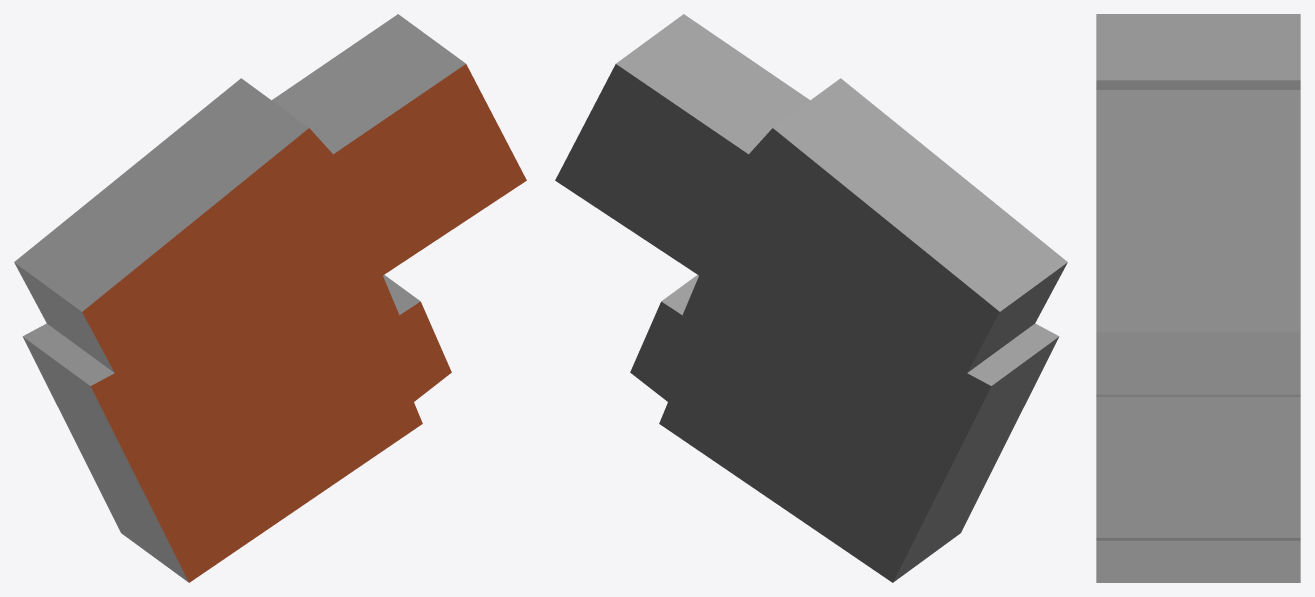
Rendered from construction_0785_assumed_A_Casa_h6m.obj.
The picture shows the model from 3 angles, left to right: view 1: azimuth 30°, elevation 25°; view 2: azimuth 150°, elevation 25°; view 3: azimuth 270°, elevation 25°; orthographic projection. The views are drawn at different scales.
Visible parts, largest first — view 1: construction_0785_assumed_A_Casa; view 2: construction_0785_assumed_A_Casa; view 3: construction_0785_assumed_A_Casa.
Part boxes in pixels (<box>): construction_0785_assumed_A_Casa: <box>14,14,526,582</box>; construction_0785_assumed_A_Casa: <box>555,14,1067,582</box>; construction_0785_assumed_A_Casa: <box>1096,14,1300,582</box>.
Size of the model in its own units: 22.66 by 21.98 by 6.
